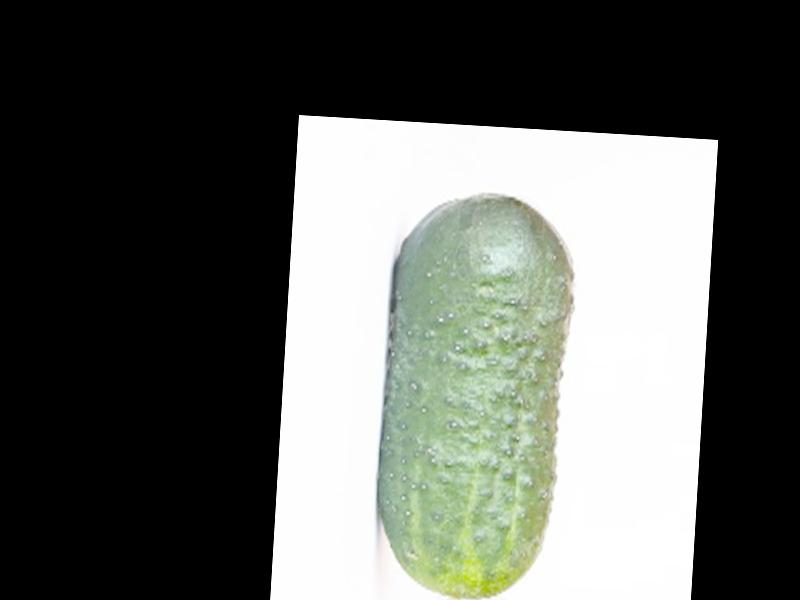Cucumber: (367, 190, 582, 600)
